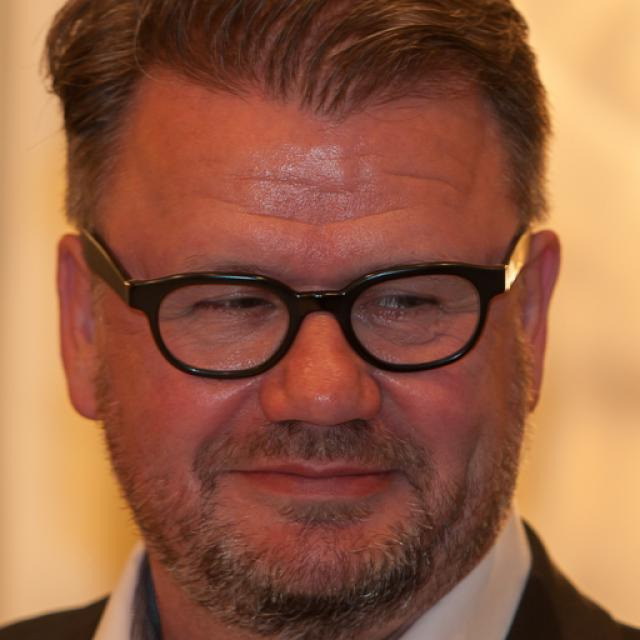Wrinkle: (239, 203, 402, 229), (394, 170, 469, 195), (237, 171, 303, 187)
